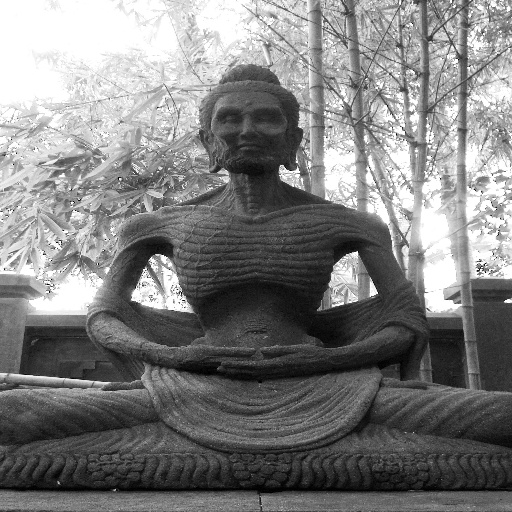hand: (215, 342, 339, 381), (174, 345, 270, 367)
